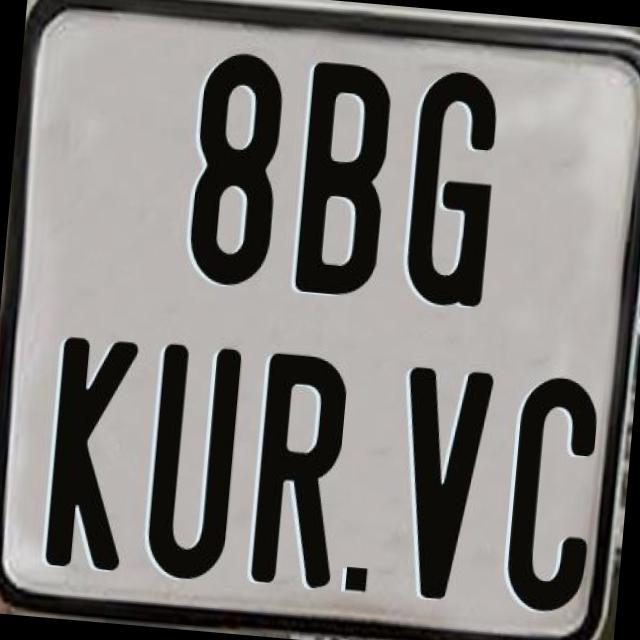8: (181, 49, 289, 294)
B: (290, 61, 396, 300)
C: (502, 375, 600, 619)
G: (402, 64, 502, 307)
K: (42, 333, 140, 569)
R: (246, 350, 348, 588)
U: (144, 342, 246, 586)
V: (386, 361, 498, 602)
